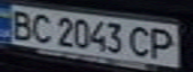0: (69, 17, 90, 51)
2: (51, 14, 75, 48)
3: (106, 20, 127, 55)
4: (87, 19, 109, 52)
B: (3, 7, 36, 40)
C: (127, 24, 157, 58), (27, 11, 57, 44)
P: (145, 25, 181, 61)
